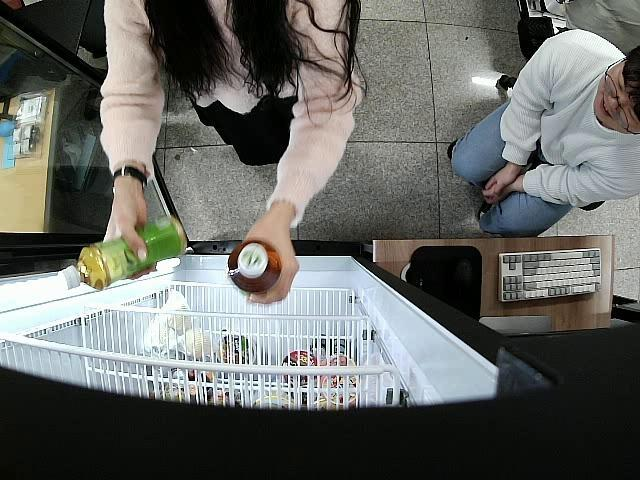19_17cha: (58, 213, 187, 293), (228, 239, 282, 295)
